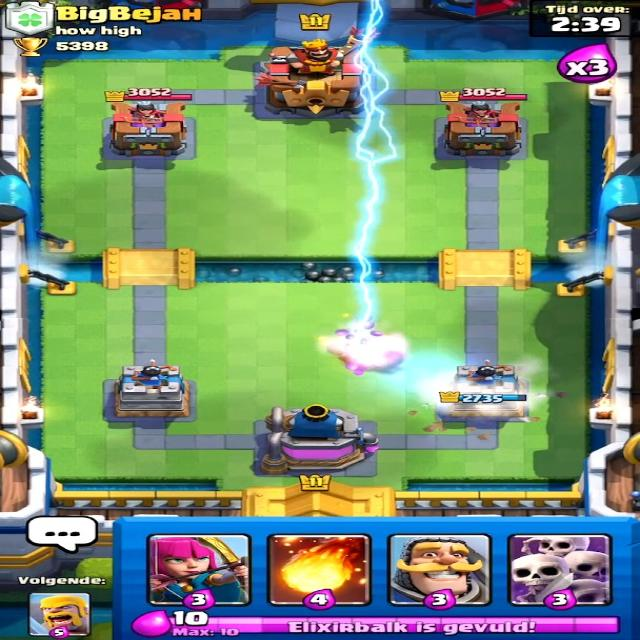Fireball_Card: (268, 533, 379, 606)
